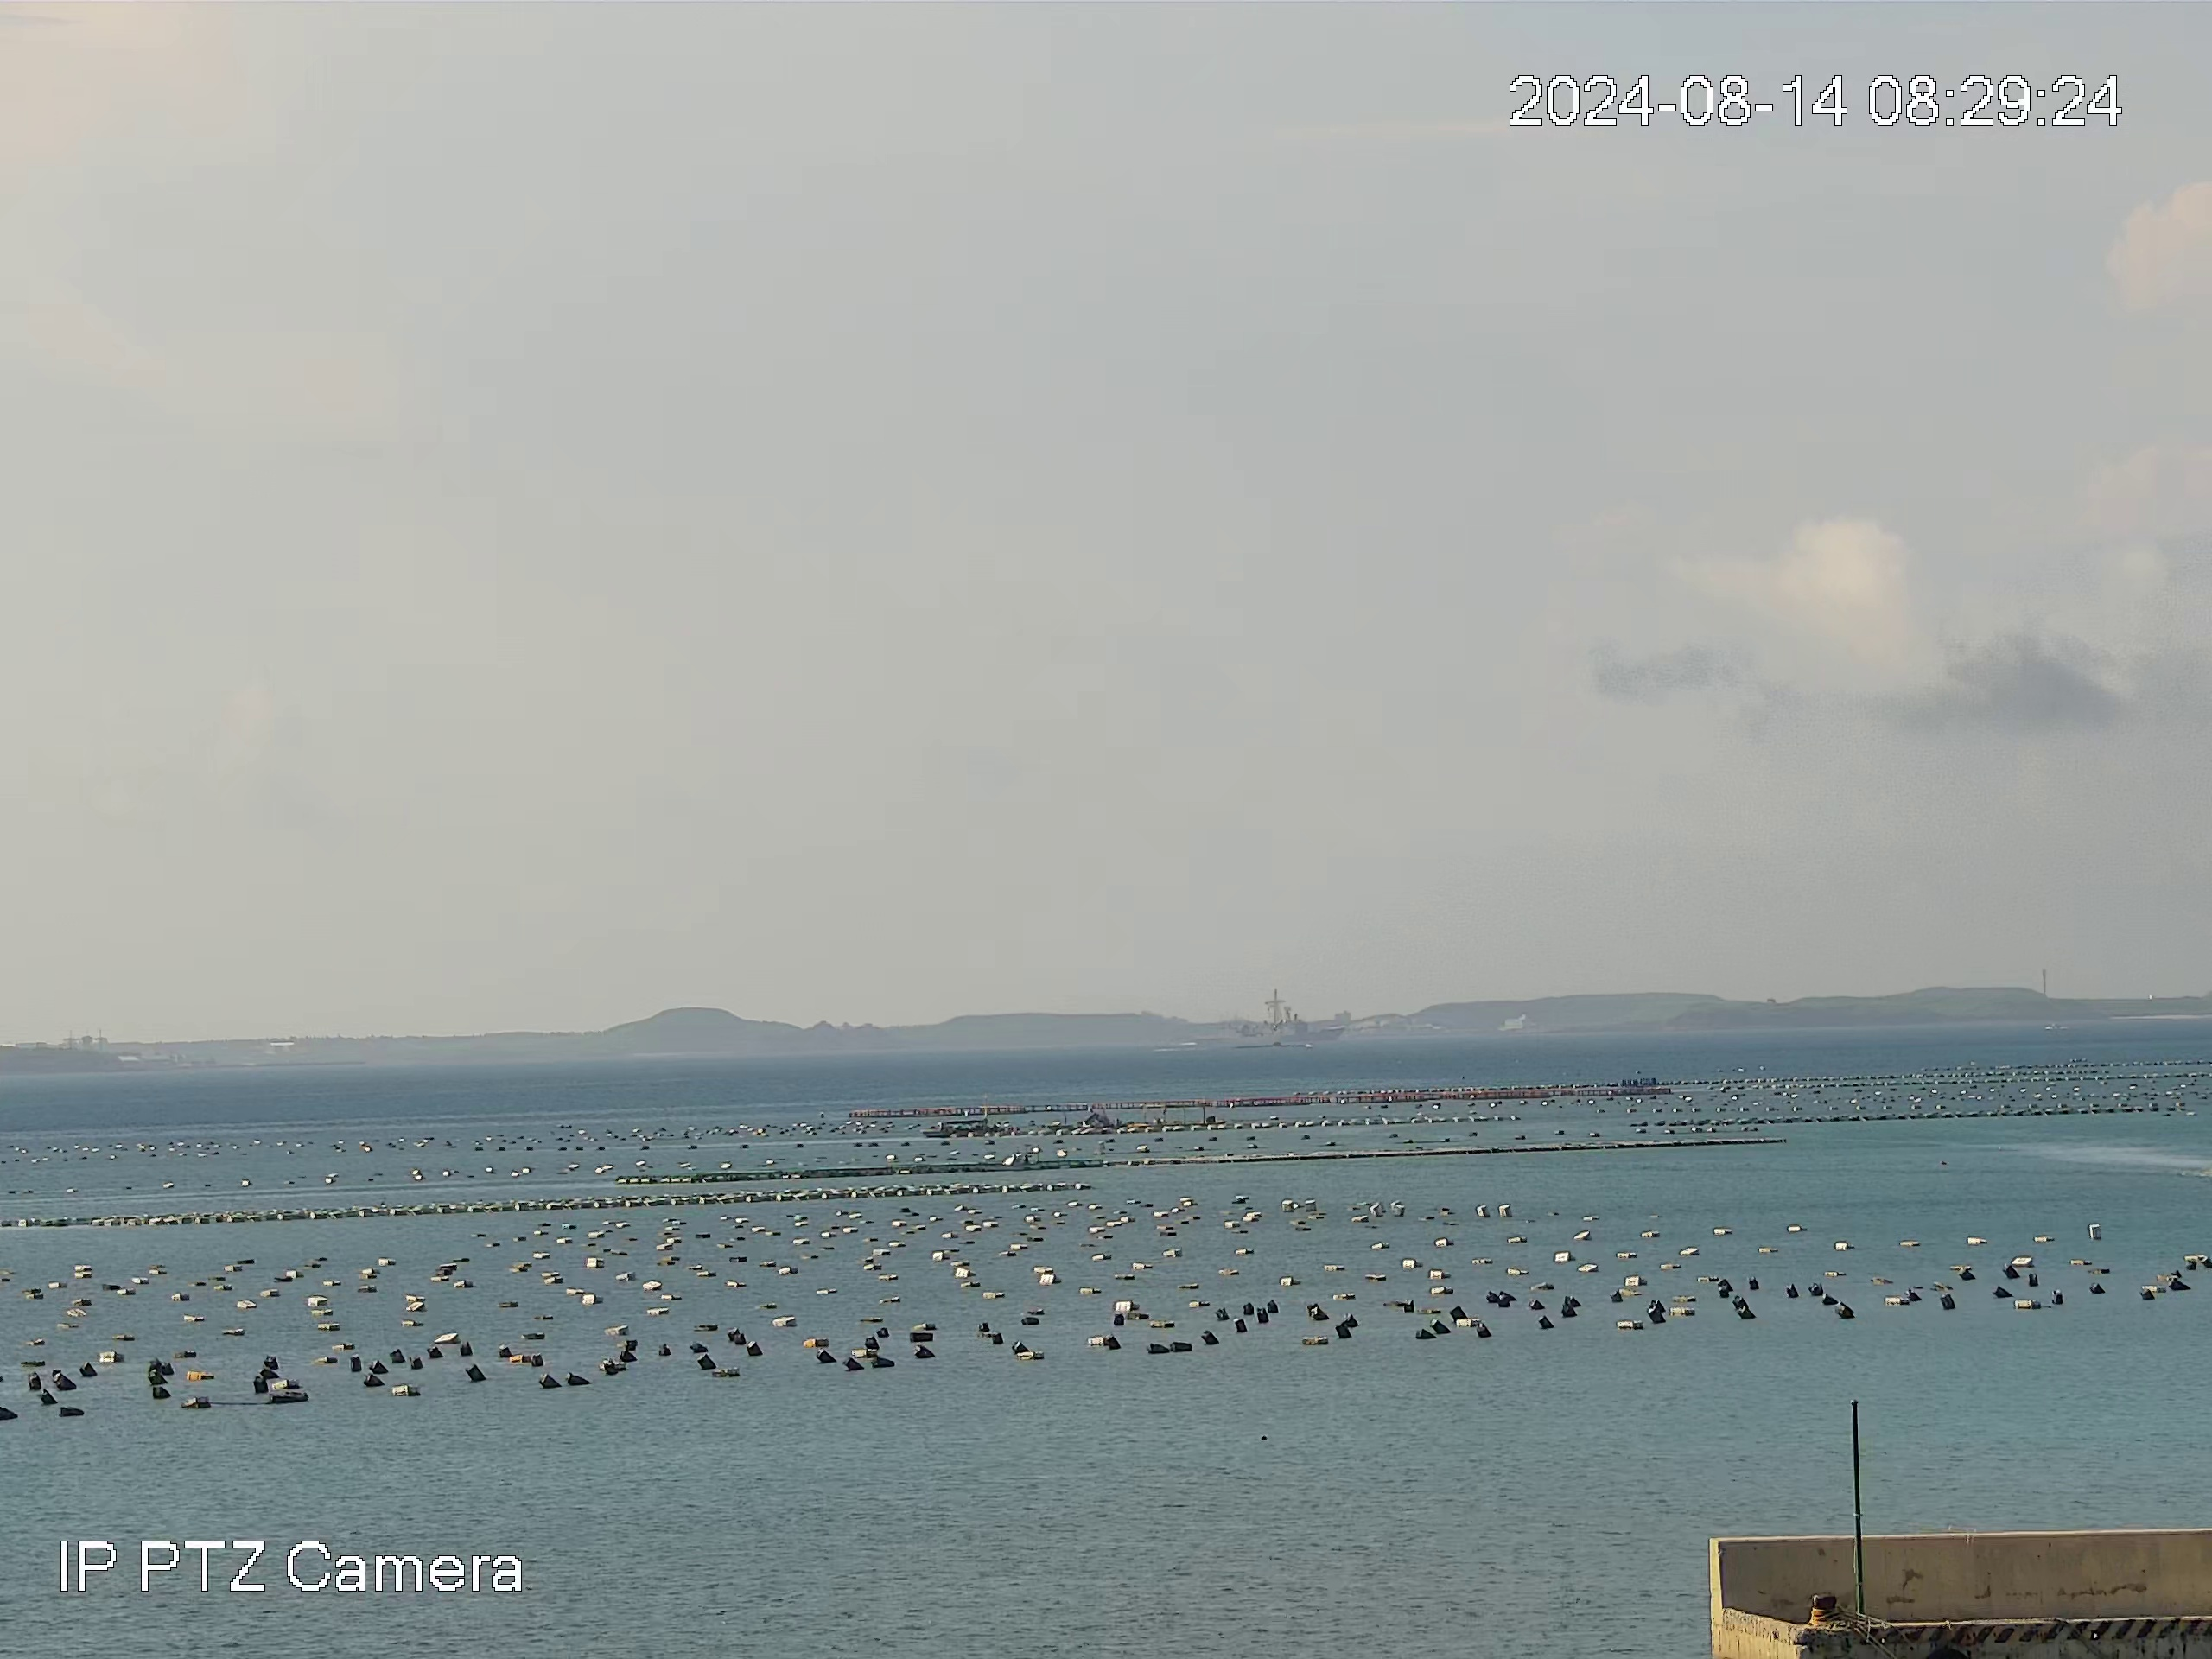boat: (920, 1119, 989, 1140)
